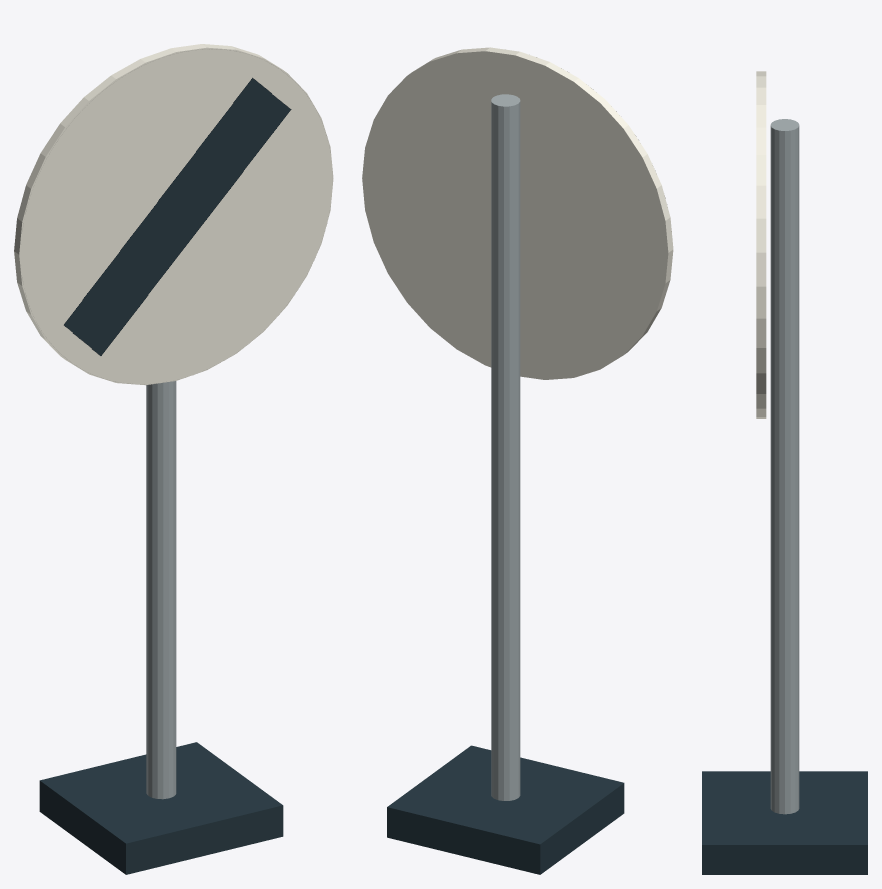
The model's file is scendance-plan-national-speed-limit.glb.
3 views of the same model, side by side, from view 1: azimuth 30°, elevation 25°; view 2: azimuth 150°, elevation 25°; view 3: azimuth 270°, elevation 25° (orthographic). The views are drawn at different scales.
Bounding box in the file's own units: 0.84 × 2 × 0.4.
Materials: 4 (1 with a texture image).
